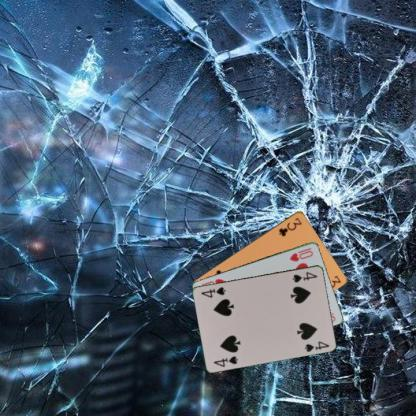10h: (287, 245, 314, 262)
3c: (276, 215, 303, 237)
4s: (290, 269, 318, 284), (211, 353, 239, 368)
